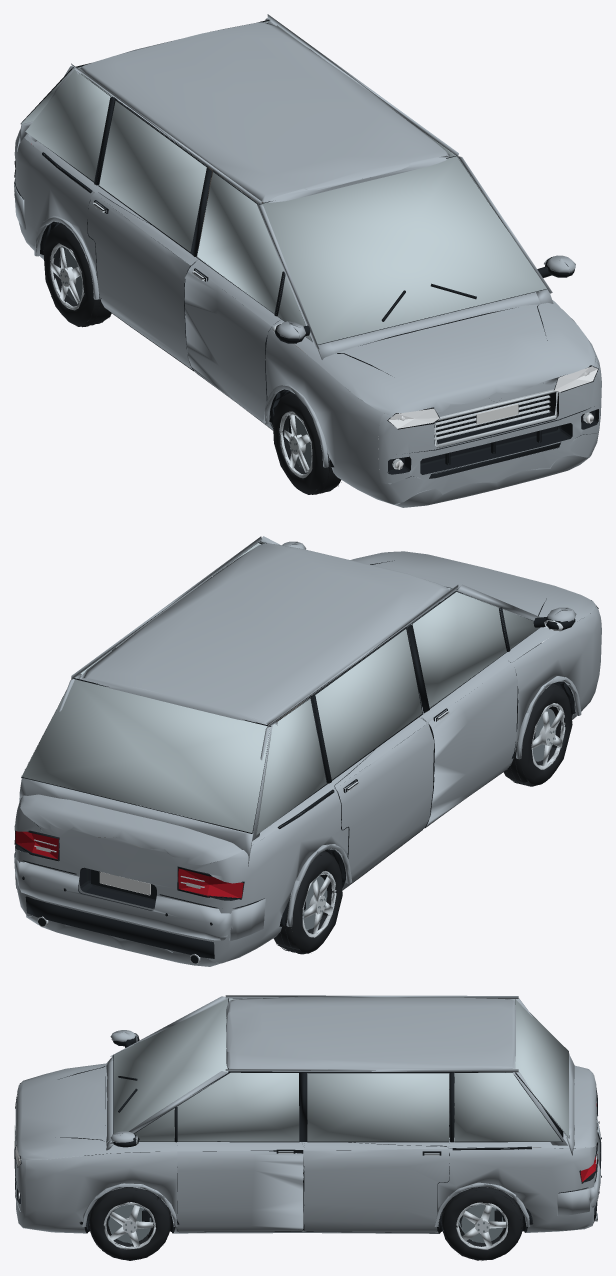
The model's file is GenericMinivanMpv.fbx.
The picture shows the model from 3 angles, top to bottom: view 1: azimuth 30°, elevation 25°; view 2: azimuth 150°, elevation 25°; view 3: azimuth 270°, elevation 25°; orthographic projection. The views are drawn at different scales.
Parts seen in each view (by area): view 1: GenericMinivanMpv, wheel4, wheel2; view 2: GenericMinivanMpv, wheel4, wheel2; view 3: GenericMinivanMpv, wheel1, wheel3.
Boxes of the visible parts, x1,y1,x2,y2 form: GenericMinivanMpv: [14, 14, 601, 507]; wheel4: [43, 223, 111, 326]; wheel2: [273, 392, 340, 494]; GenericMinivanMpv: [14, 536, 601, 966]; wheel4: [273, 851, 342, 953]; wheel2: [503, 683, 572, 786]; GenericMinivanMpv: [14, 995, 601, 1260]; wheel1: [89, 1187, 170, 1260]; wheel3: [442, 1187, 522, 1260].
Size of the model in its own units: 226 by 178 by 509.
Materials: 13 (13 with a texture image).
